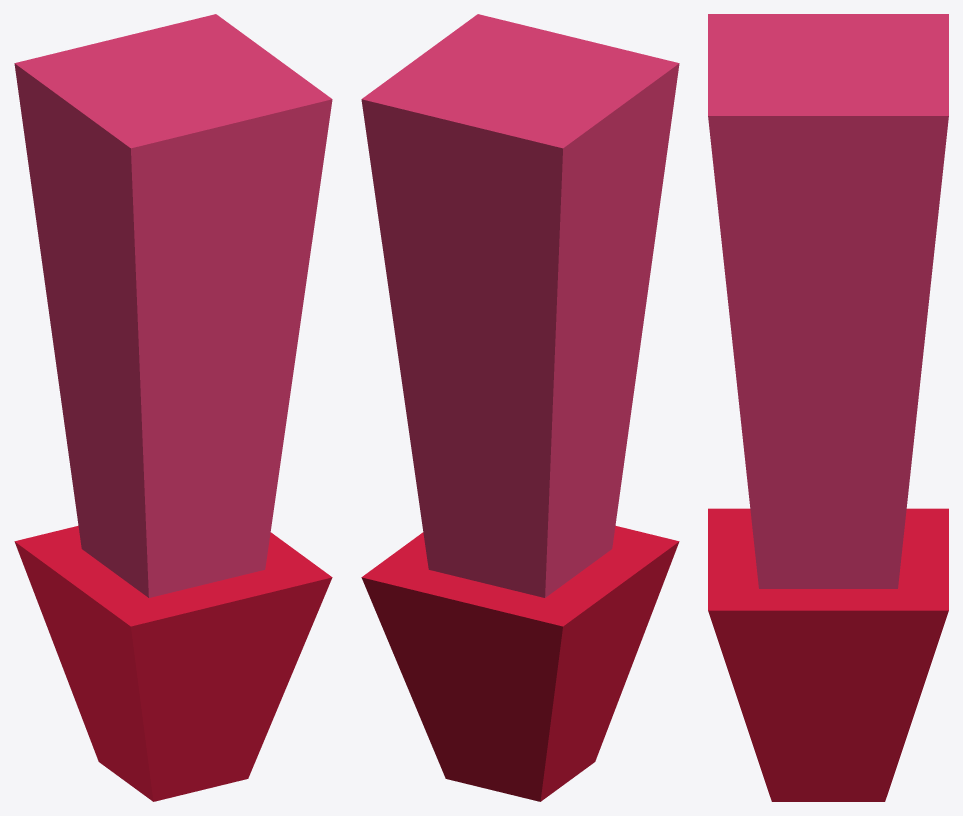
Rendered from target.glb.
The picture shows the model from 3 angles, left to right: view 1: azimuth 30°, elevation 25°; view 2: azimuth 150°, elevation 25°; view 3: azimuth 270°, elevation 25°; orthographic projection. The views are drawn at different scales.
Visible parts, largest first — view 1: Cube.001, Cube.002; view 2: Cube.001, Cube.002; view 3: Cube.001, Cube.002.
Part boxes in pixels (<box>): Cube.001: <box>14,14,332,597</box>; Cube.002: <box>14,525,332,801</box>; Cube.001: <box>361,14,679,597</box>; Cube.002: <box>361,525,679,801</box>; Cube.001: <box>708,14,948,588</box>; Cube.002: <box>708,508,948,801</box>.
Size of what is drawn, in the model's own units: 2 by 6.53 by 2.
